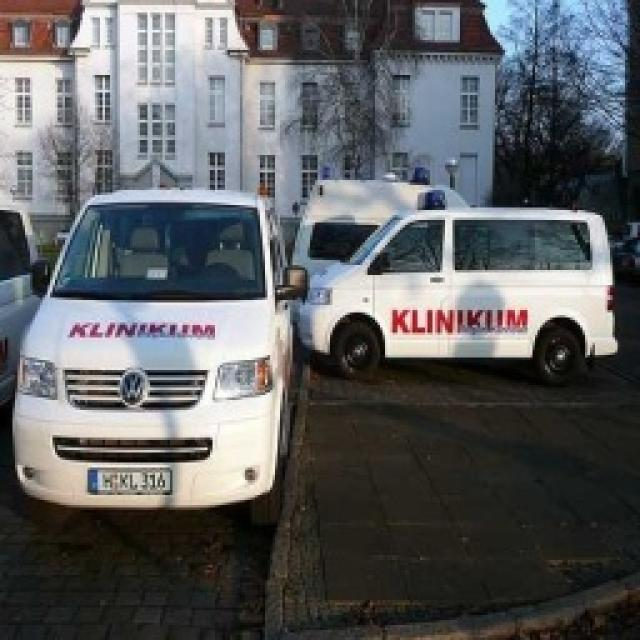emergency-vehicle: (31, 184, 289, 508), (299, 193, 625, 386)
